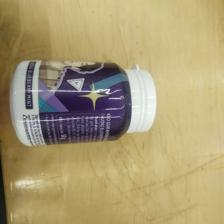Xylitol_BTS: (7, 59, 156, 145)
